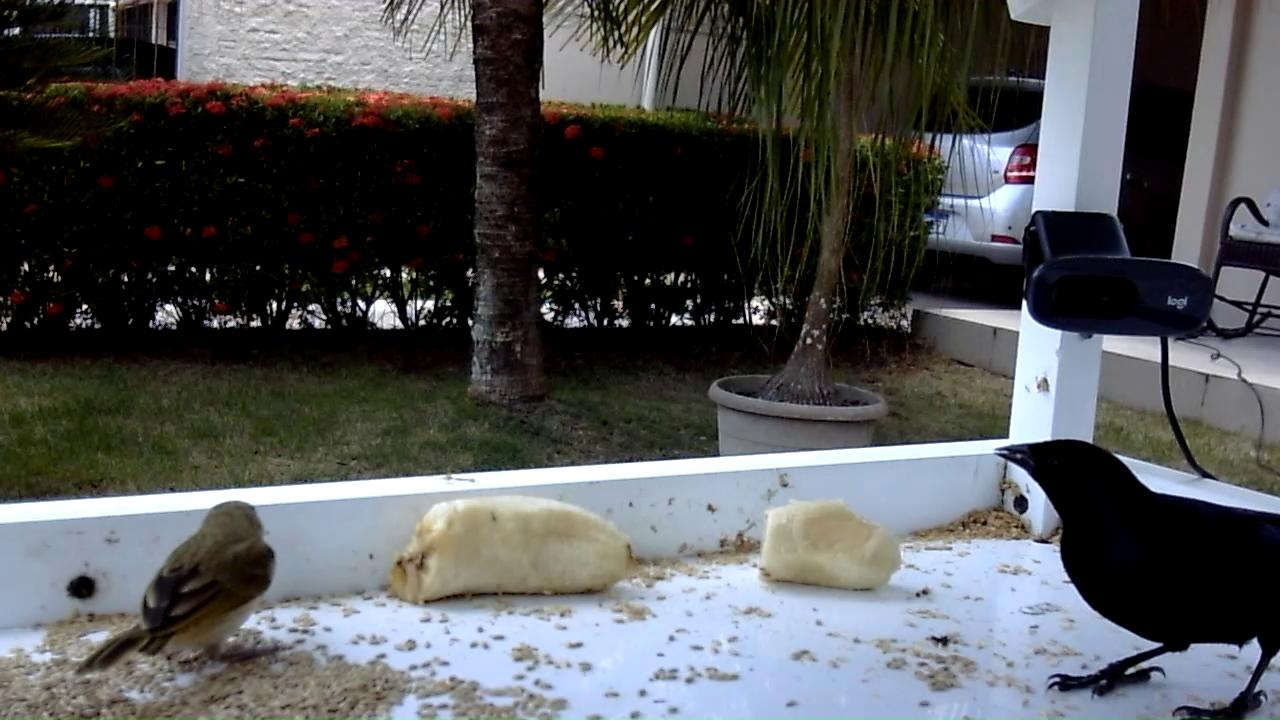canario_do_amazonas: (69, 498, 283, 684)
chupim: (990, 437, 1280, 720)
